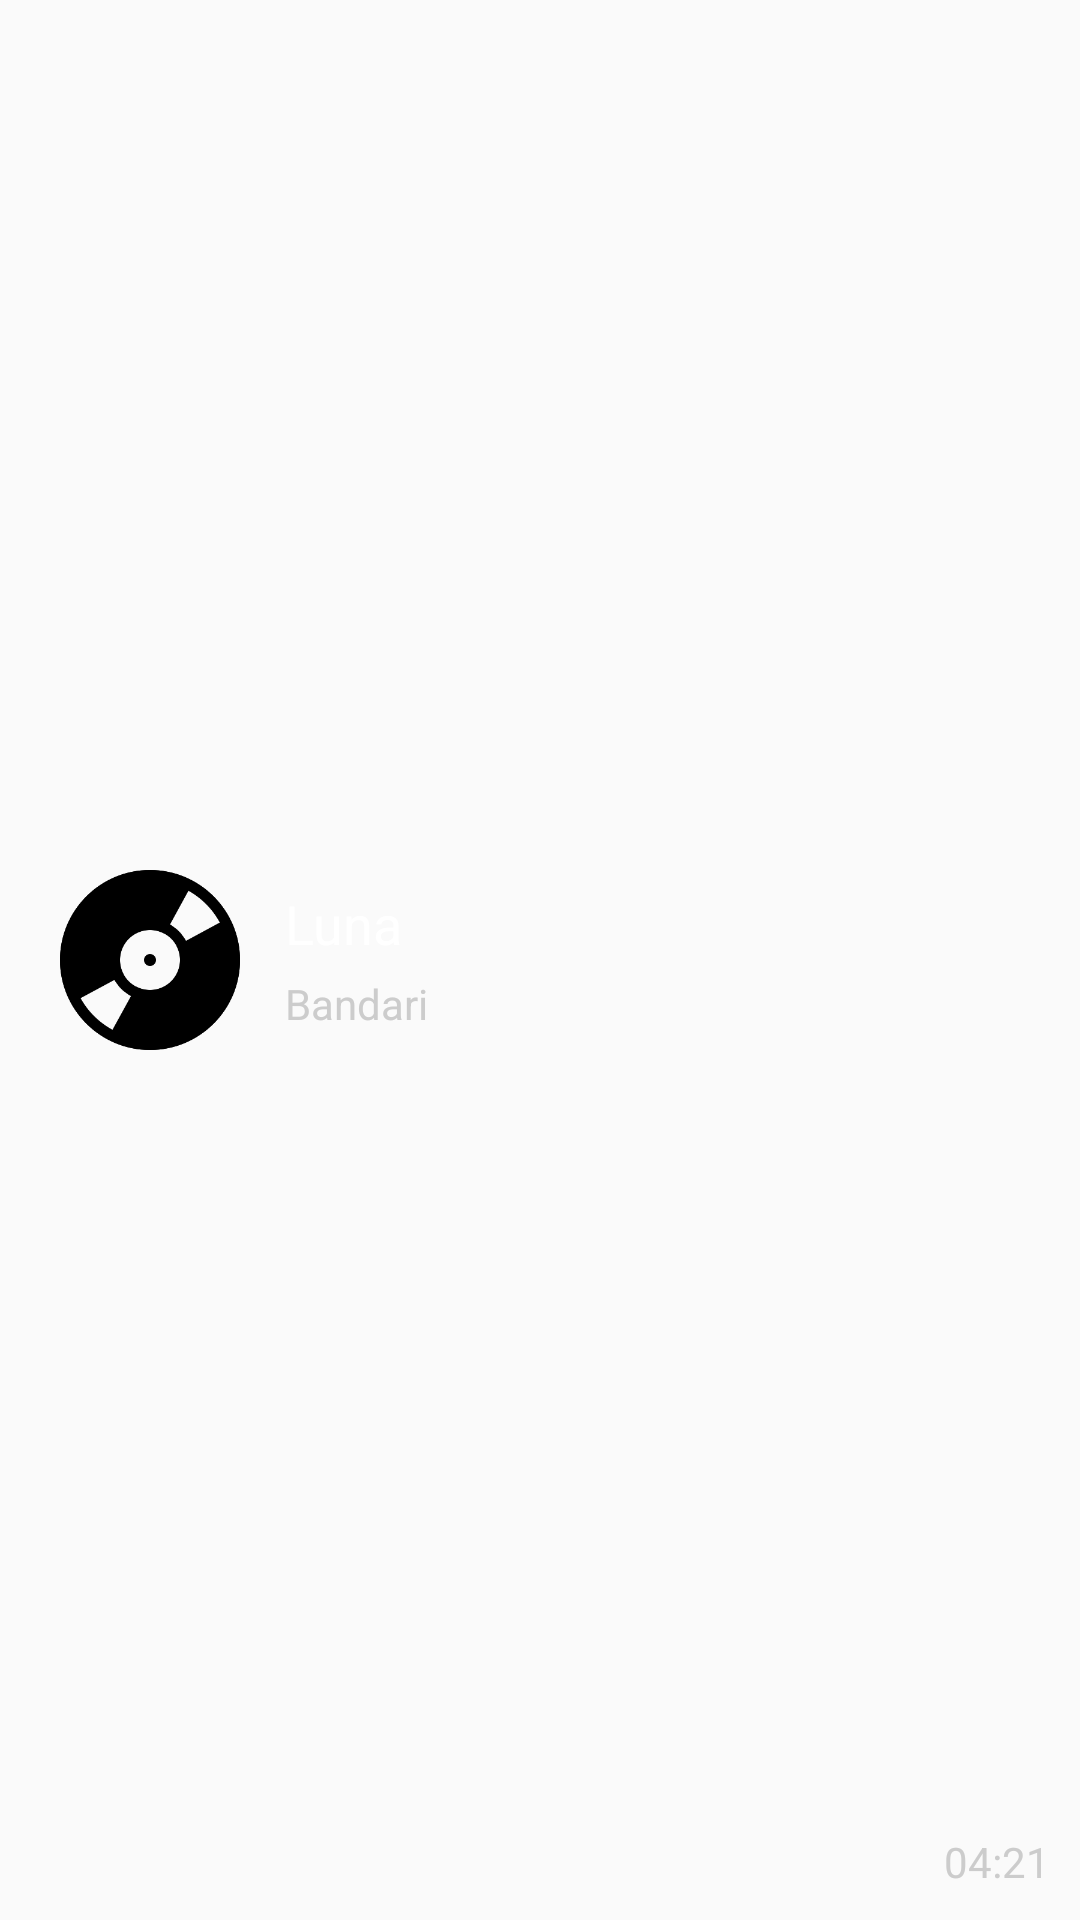

Named icons in this screenshot (1080 x 1920) and their centers, (x=x, y=y):
music: (x=150, y=960)
